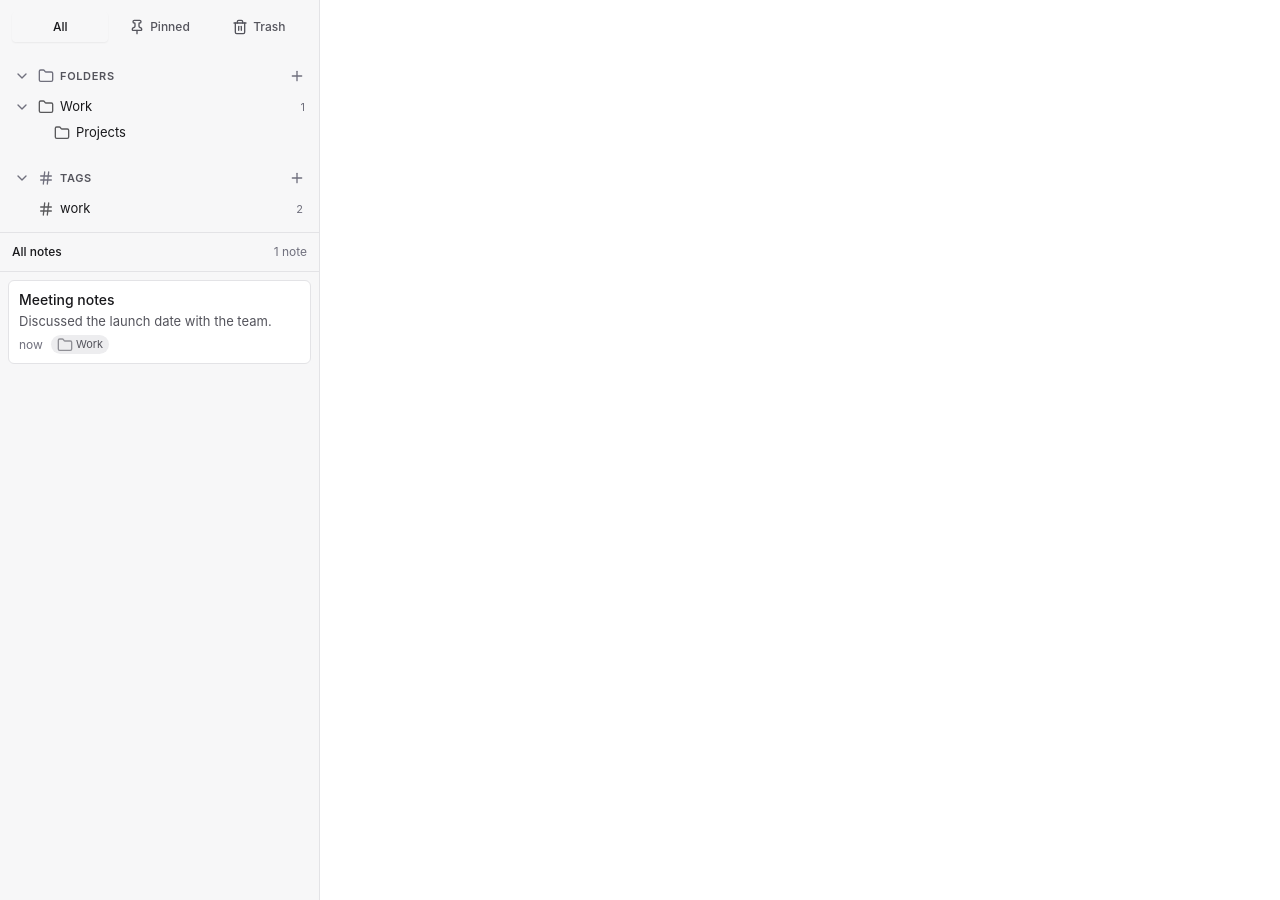
Test case: Sidebar › opens the tag menu on right-click and closes it on Escape
This screenshot has width=1280, height=900.
Step 1. Right-click the element with test id "tag-row" → (75,208), box top-left (8, 196), bottom-right (311, 222)
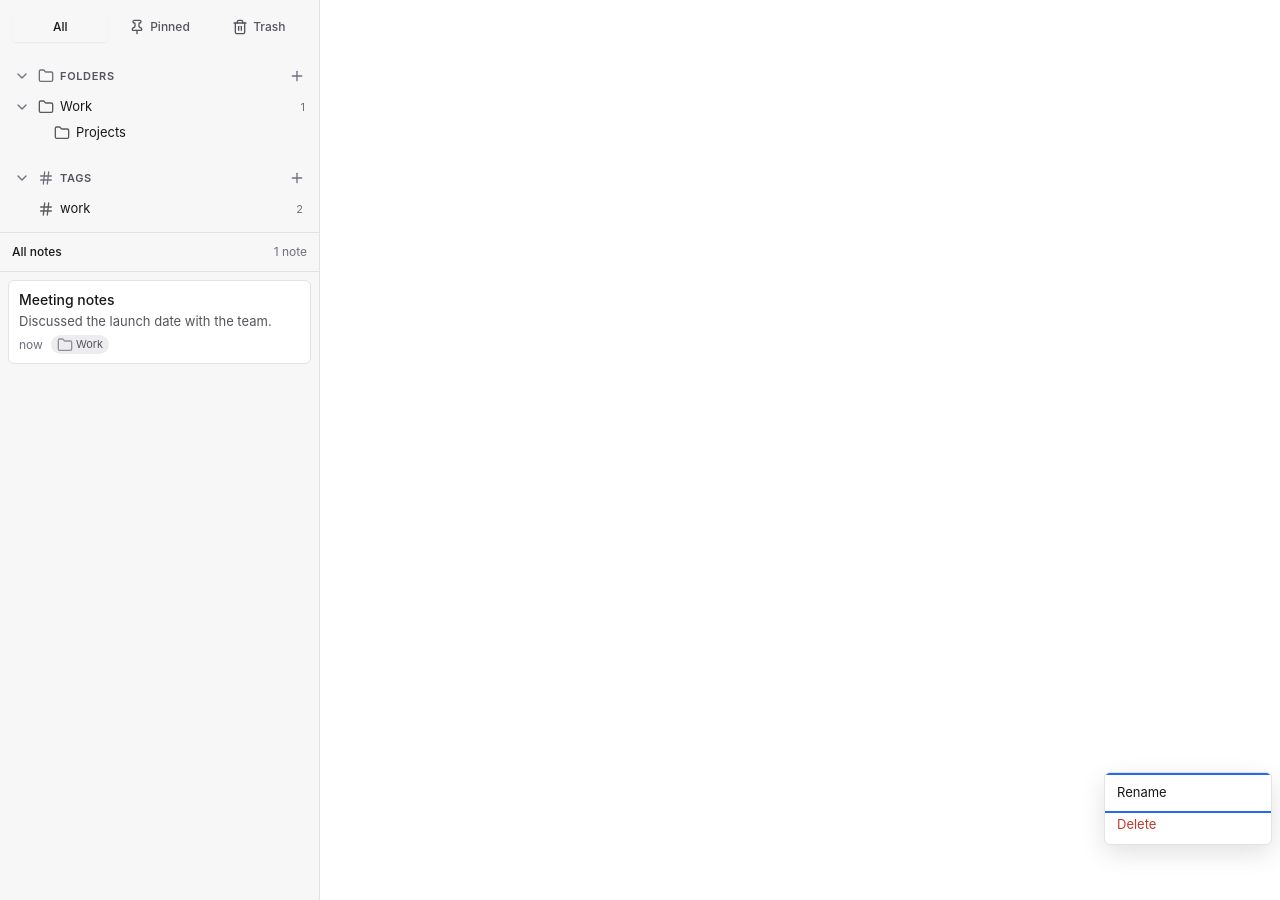
expect the menu with test id "tag-menu" is shown: met
Step 2. Press Escape in the menu with test id "tag-menu", box top-left (1104, 772), bottom-right (1272, 845)
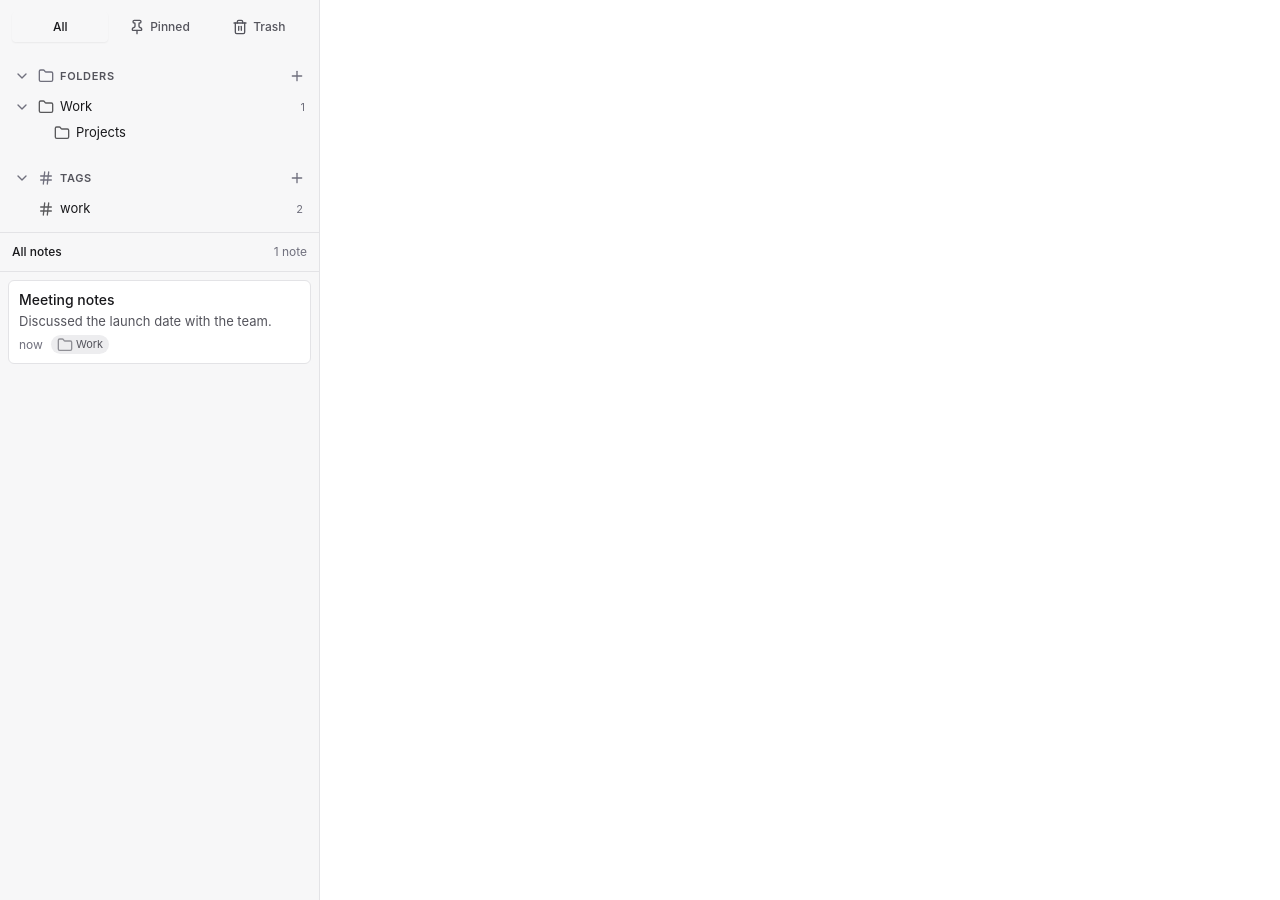
expect the menu with test id "tag-menu" is gone: met
